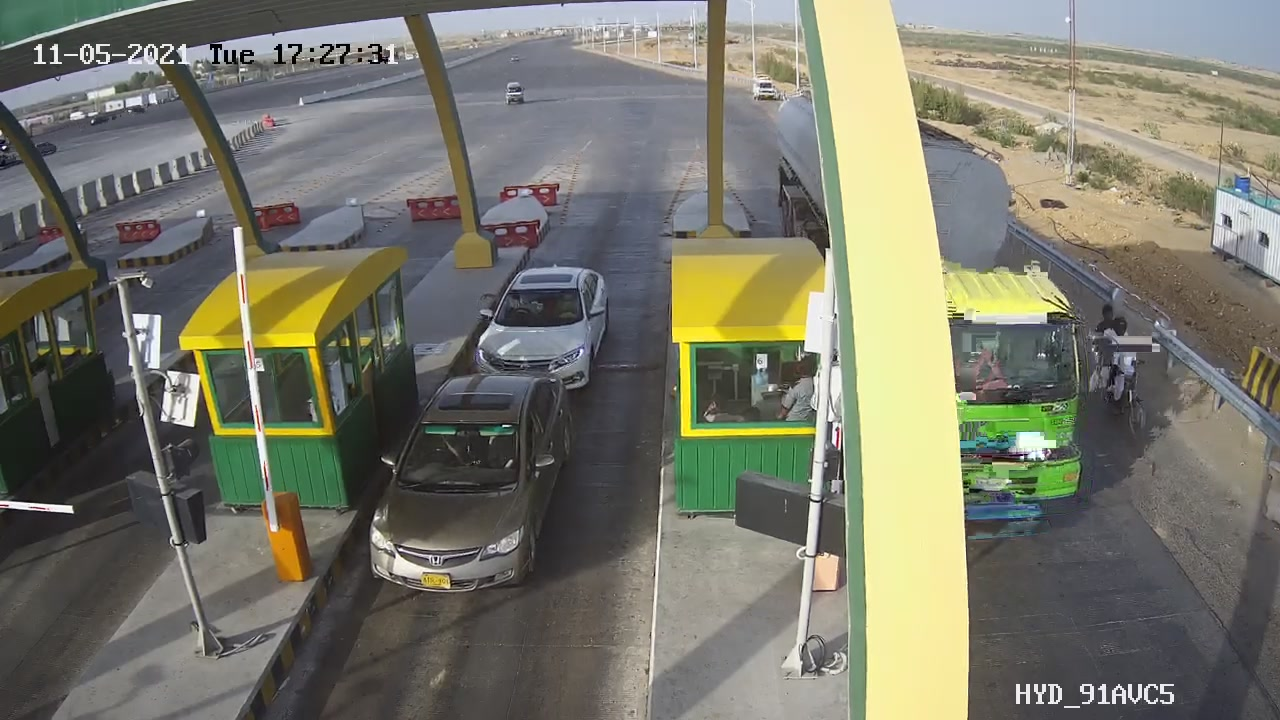F1: (351, 357, 592, 612), (459, 257, 625, 412)
